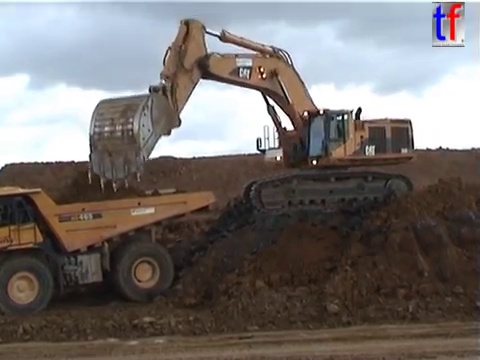excavator: (84, 15, 417, 218)
truck: (1, 182, 218, 318)
